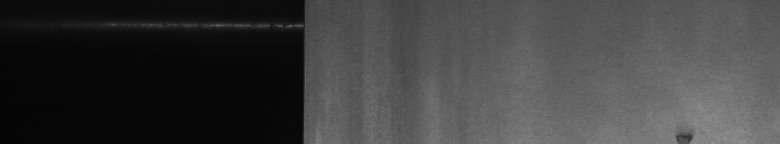fi: (672, 124, 697, 136)
